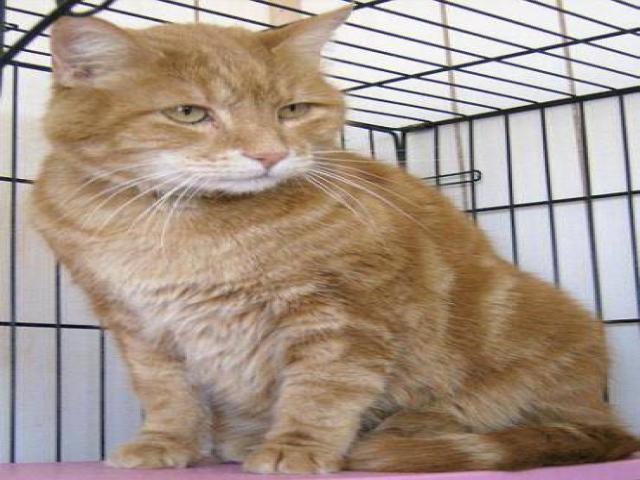cat: (28, 3, 636, 476)
